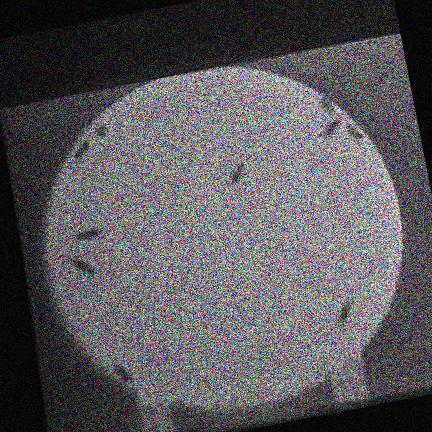fly: (320, 117, 339, 138), (72, 257, 95, 274), (113, 364, 133, 382), (337, 301, 351, 326), (229, 160, 244, 182), (74, 227, 100, 239), (73, 139, 87, 161), (318, 97, 335, 114), (346, 124, 363, 141), (95, 124, 106, 136)
